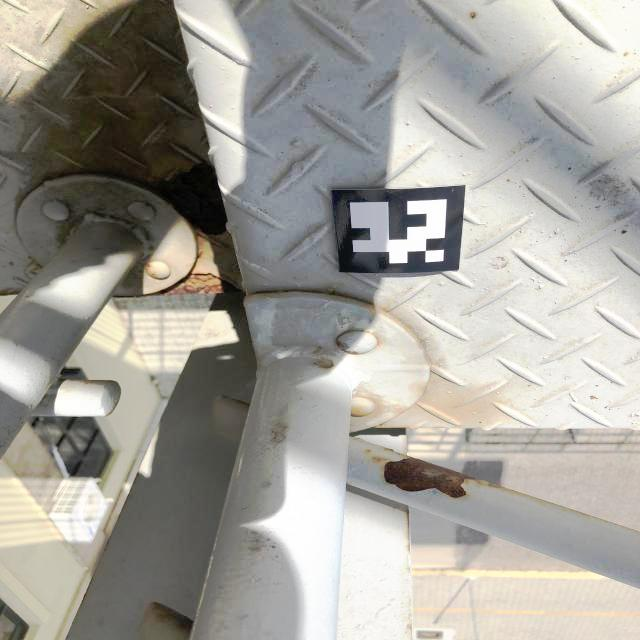Corrosion: (156, 163, 226, 234), (384, 458, 477, 498), (148, 274, 239, 295), (151, 604, 194, 634), (336, 341, 359, 355), (143, 264, 150, 270), (148, 272, 156, 277)
